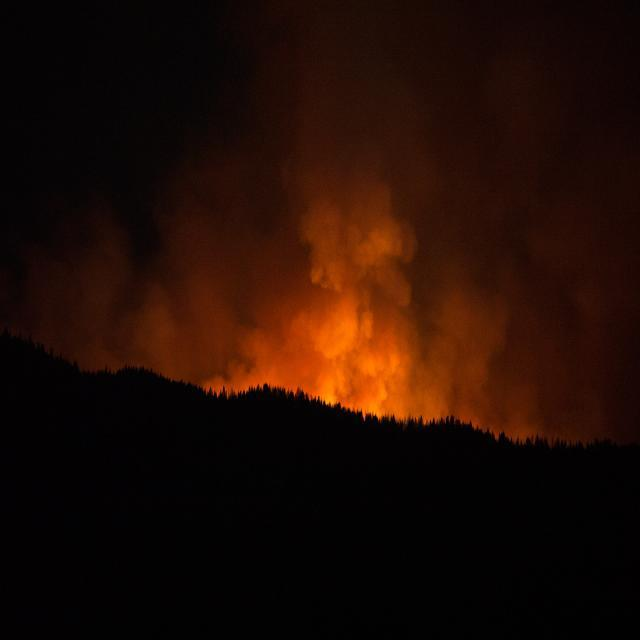Smoke: (198, 39, 516, 428)
